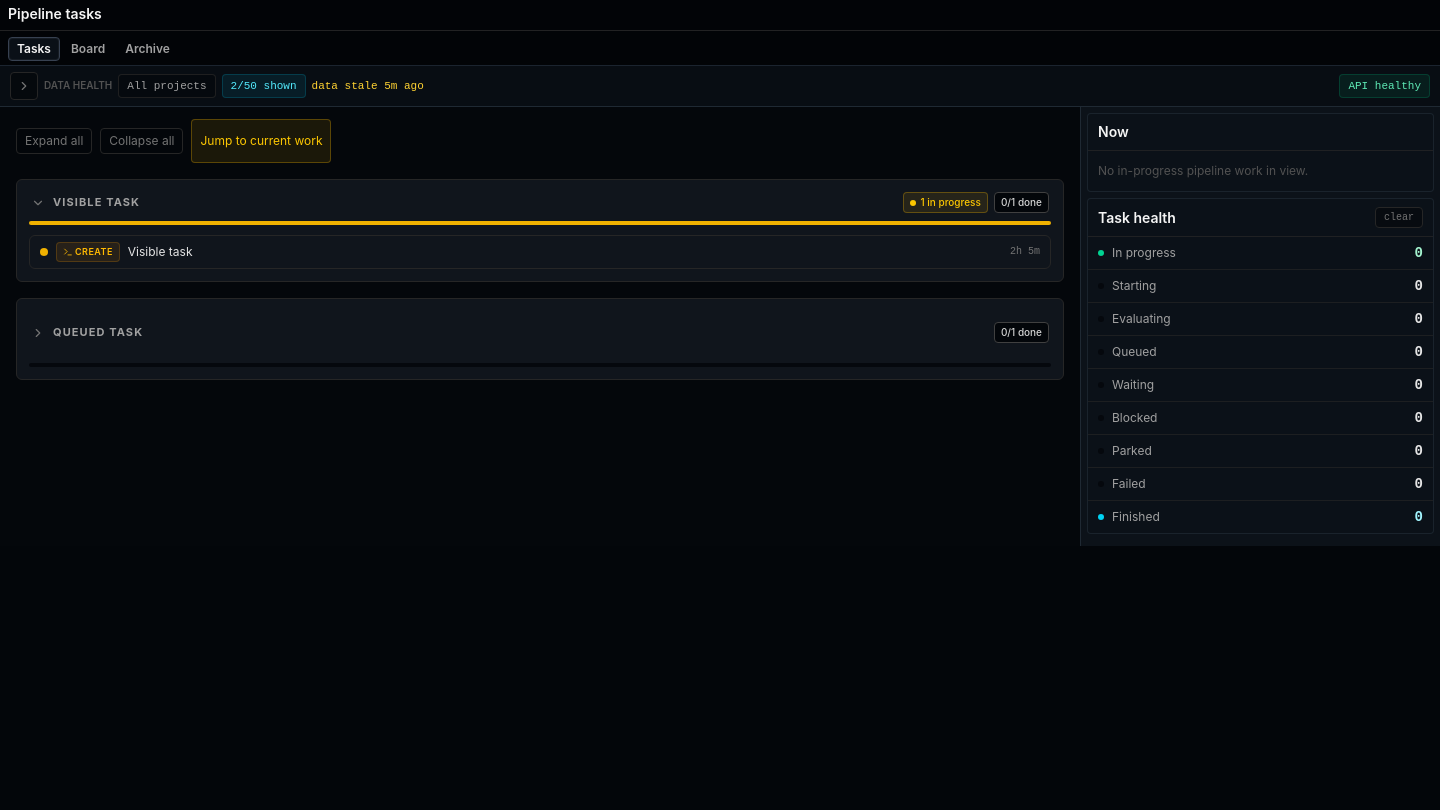
Test: PipelineWorkspace status strip › shows global stale state and omits websocket when not supplied
Click the button titled "Show data details" at (24, 86), box 10,72 -> 38,100
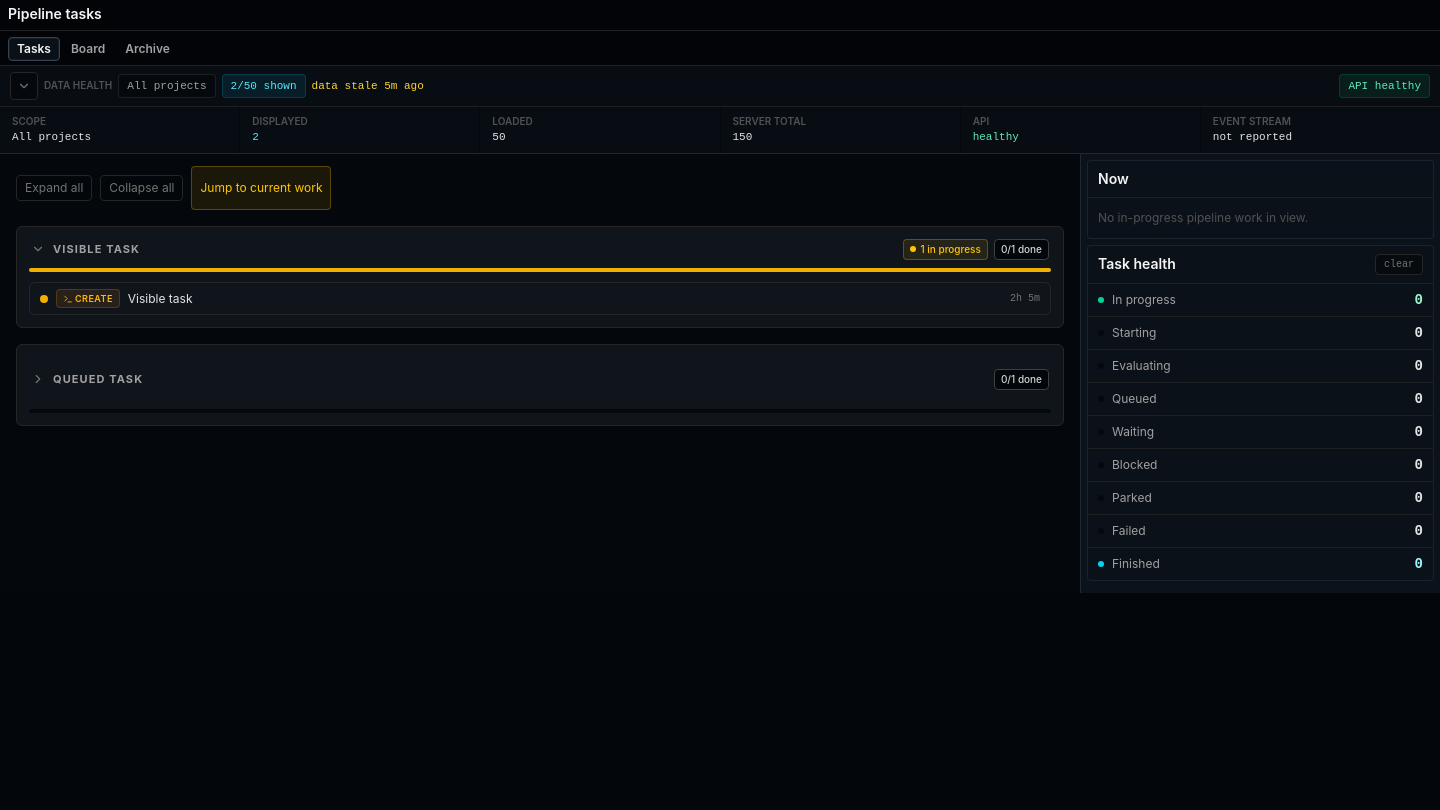
Expected: the text "Event stream" is shown, 1213,115 -> 1291,127
Expected: the text "not reported" is shown, 1213,131 -> 1292,143
